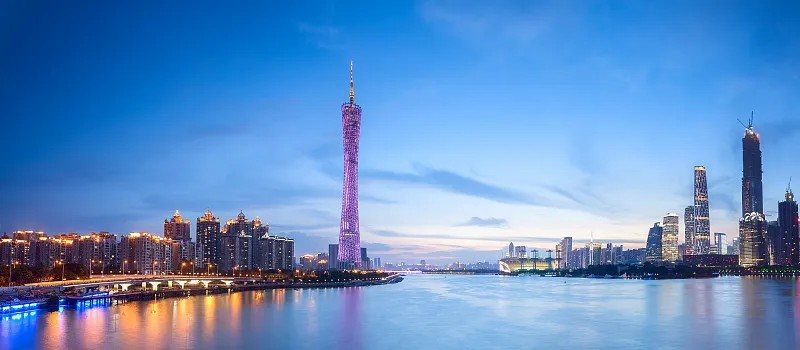Canton: (337, 60, 361, 270)
